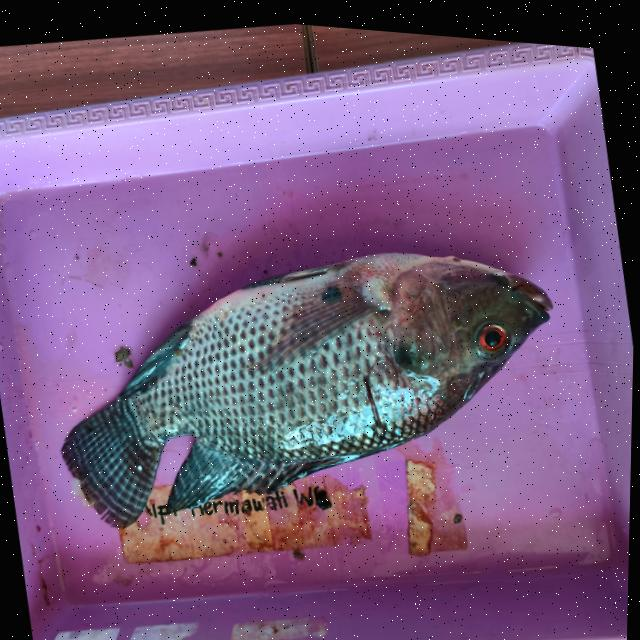Fresh: (36, 221, 492, 563), (458, 295, 531, 371)
